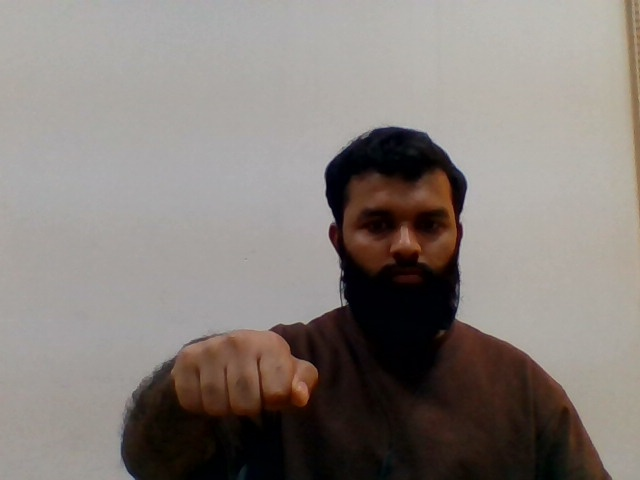Yes: (149, 315, 354, 433)
